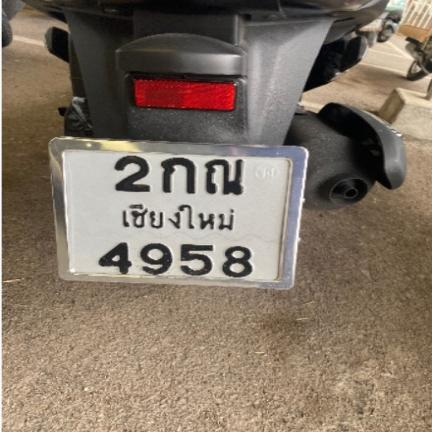2: (112, 152, 153, 193)
4: (98, 238, 135, 275)
5: (178, 242, 218, 277)
8: (222, 242, 256, 281)
9: (139, 238, 174, 277)
A01: (157, 155, 199, 196)
A19: (204, 157, 248, 198)
CMI: (118, 201, 239, 232)
